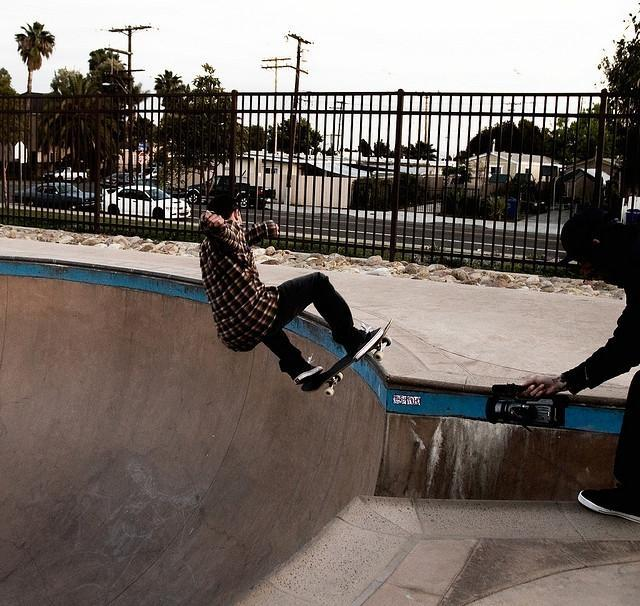car: (101, 185, 192, 219), (9, 182, 100, 212), (99, 172, 145, 190), (138, 166, 160, 182)
truck: (187, 176, 278, 210)
